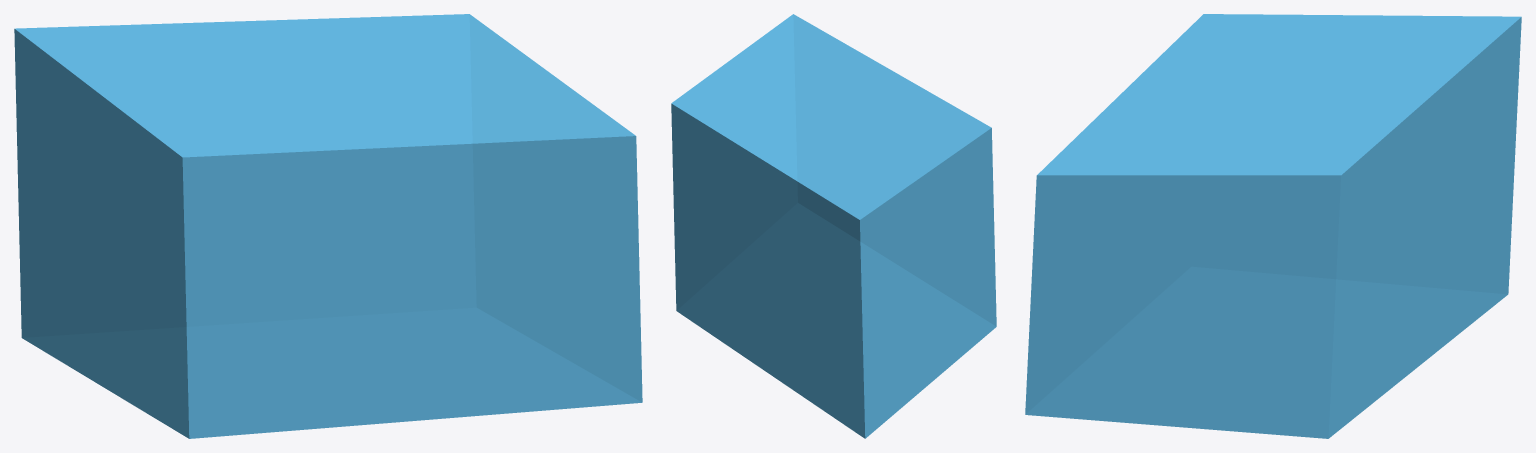
File: Event_421364160_HErechit_33.fbx
3 renders of one model, left to right at view 1: azimuth 30°, elevation 25°; view 2: azimuth 150°, elevation 25°; view 3: azimuth 270°, elevation 25°, orthographic. The views are drawn at different scales.
Parts seen in each view (by area): view 1: Model; view 2: Model; view 3: Model.
Part boxes in pixels (bbox=[...]): Model: bbox=[14, 14, 642, 438]; Model: bbox=[671, 14, 996, 438]; Model: bbox=[1025, 14, 1521, 438].
Size of the model in its own units: 0.5979 by 0.4795 by 0.777.
